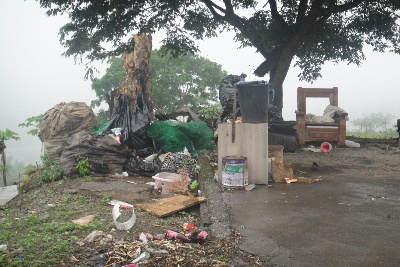bottle: (166, 228, 192, 242)
bowl: (152, 171, 192, 194)
bucket: (236, 80, 269, 122), (221, 155, 248, 187)
plastic_bag: (35, 101, 96, 176), (148, 117, 215, 151), (92, 116, 131, 173), (127, 146, 157, 175)
